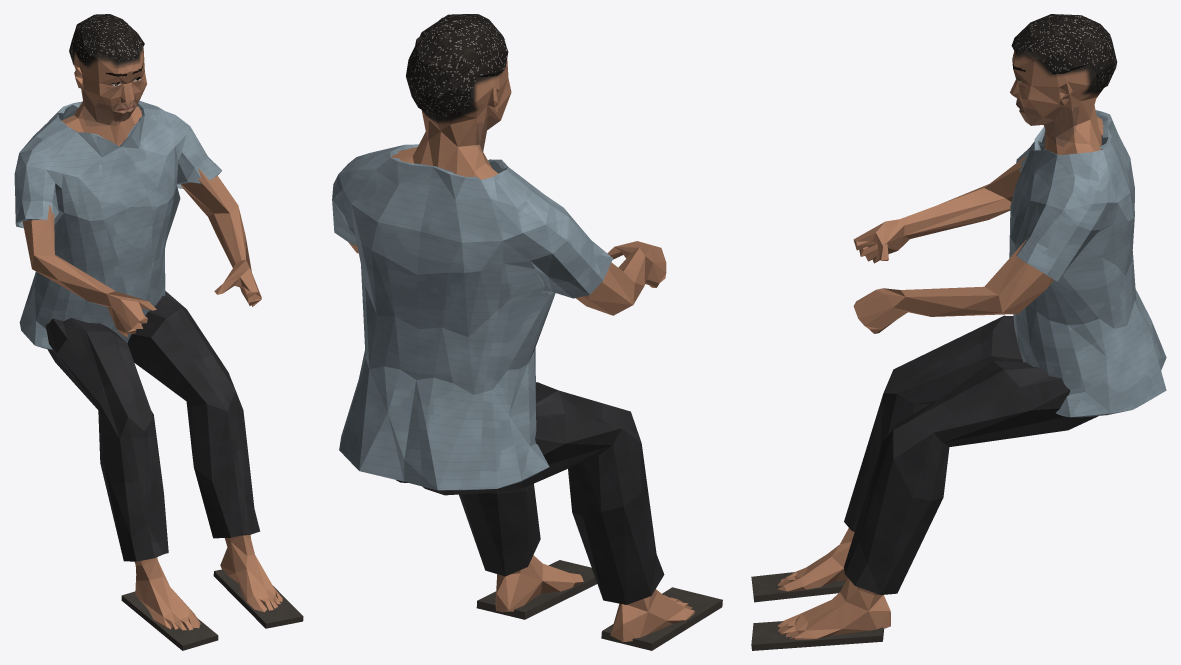
The model's file is BacTai.fbx.
3 renders of one model, left to right at view 1: azimuth 30°, elevation 25°; view 2: azimuth 150°, elevation 25°; view 3: azimuth 270°, elevation 25°, orthographic. The views are drawn at different scales.
Parts seen in each view (by area): view 1: Quan, Ao, Body, Dep, Toc; view 2: Ao, Quan, Body, Toc, Dep; view 3: Ao, Quan, Body, Toc, Dep.
Part boxes in pixels (x1,y1,x2,y2): Quan: (46,291,260,561); Ao: (14,100,222,349); Body: (22,15,282,630); Dep: (121,569,303,650); Toc: (69,14,144,64); Ao: (332,144,612,490); Quan: (396,382,664,604); Body: (348,16,694,642); Toc: (406,14,508,116); Dep: (476,560,722,650); Ao: (1009,110,1166,417); Quan: (844,315,1098,594); Body: (777,19,1110,639); Toc: (1011,14,1117,89); Dep: (751,572,883,650).
Bounding box in the file's own units: 0.5623 × 1.36 × 0.8515.
5 materials, 5 textured.
